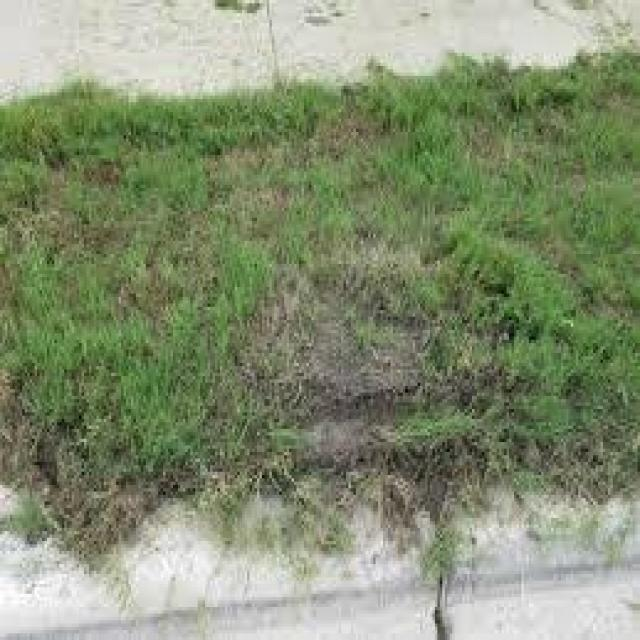curb: (1, 419, 640, 640)
